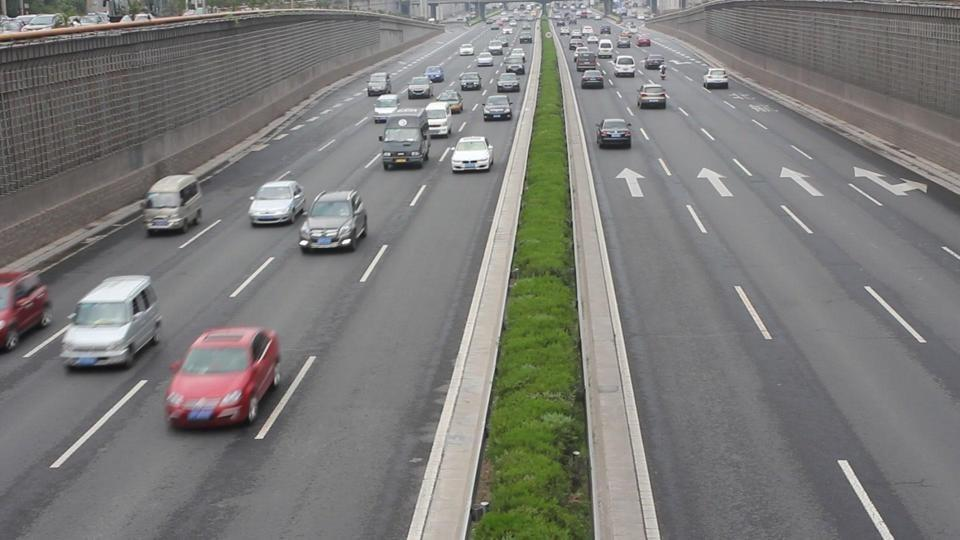car: (163, 325, 281, 431), (59, 274, 165, 371), (296, 189, 369, 253), (0, 268, 52, 353), (142, 173, 206, 235), (247, 179, 308, 227), (380, 115, 430, 173), (450, 136, 494, 174), (595, 117, 633, 150), (422, 101, 454, 138), (482, 94, 513, 121), (637, 83, 668, 110), (373, 93, 400, 123), (702, 67, 730, 90), (367, 74, 391, 98), (406, 77, 432, 99), (580, 69, 606, 89), (614, 54, 636, 77), (496, 72, 520, 92), (460, 73, 481, 91), (644, 53, 664, 71), (425, 66, 445, 83)
